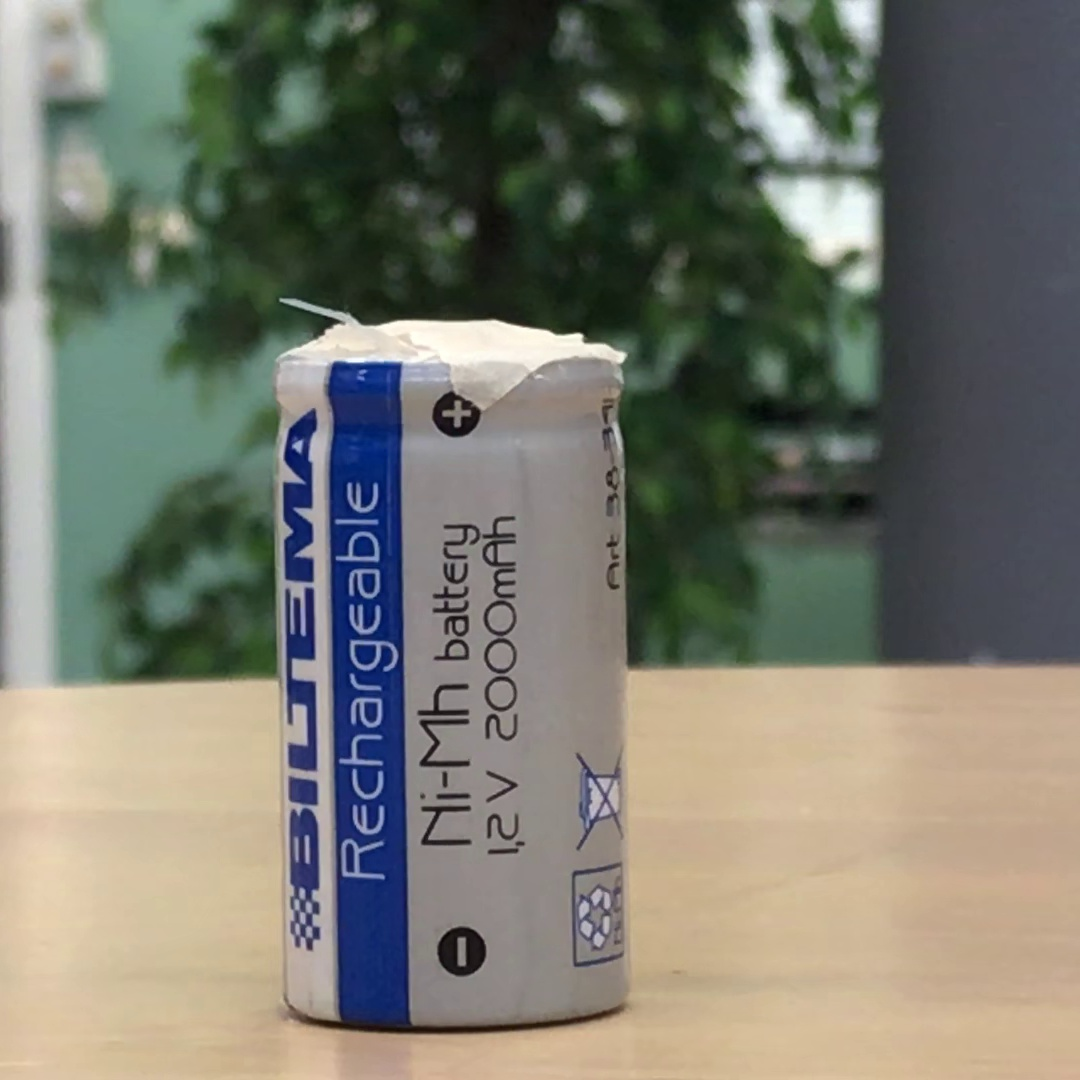keyword: (407, 674, 482, 856)
